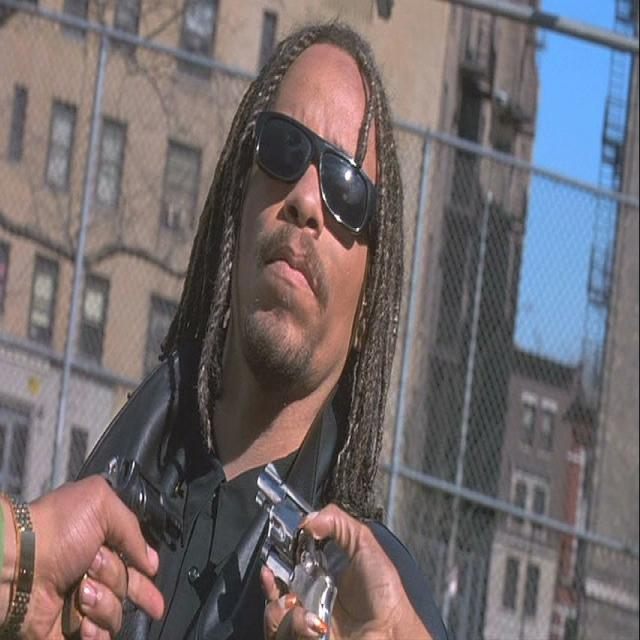gun-knife-thesis - v11 Yolov5 augmented: (56, 442, 190, 638), (242, 450, 345, 634)
